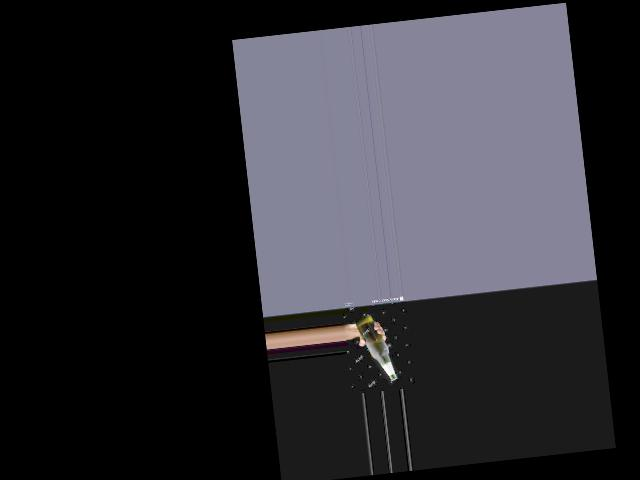beer: (354, 311, 397, 384)
